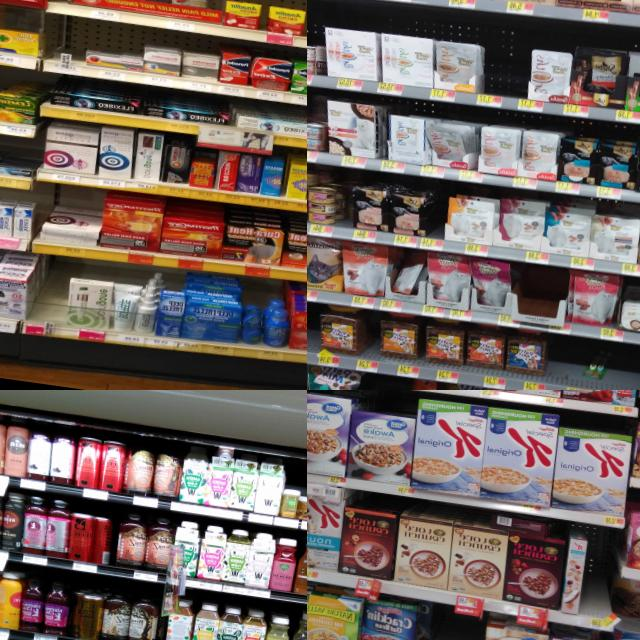100- O.O.S: (576, 528, 617, 630), (481, 28, 531, 111), (34, 263, 70, 337), (542, 334, 588, 390), (48, 16, 88, 76), (427, 612, 487, 640), (606, 342, 640, 390), (424, 194, 448, 251), (359, 374, 413, 390), (307, 301, 320, 364)
